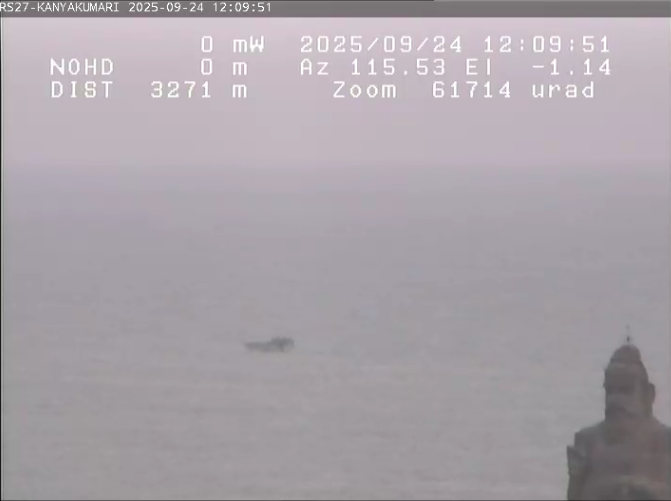FISHING_BOAT: (227, 325, 315, 355)
